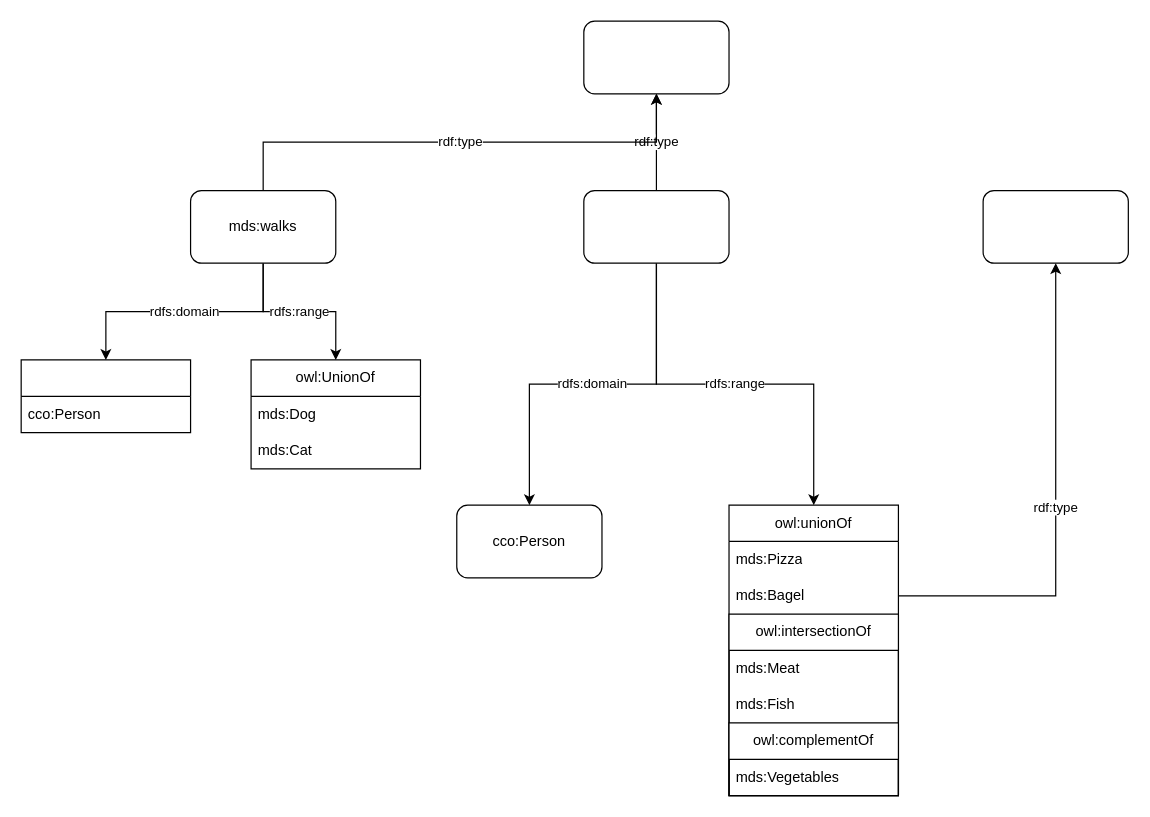
Some shapes in this 1150 by 817 pixel diagram are drawn without their labels. The centre of each missing label's shape, as x and y in pixels:
mds:eats: the point at 656,226
obo:Object: the point at 1055,226
owl:ObjectProperty: the point at 656,57
